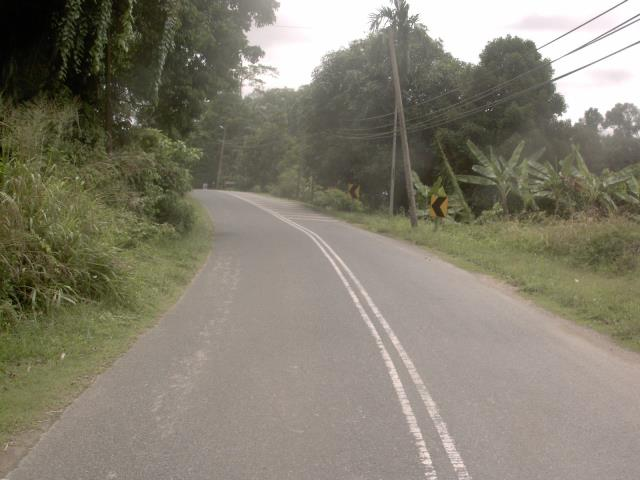traffic_sign: (423, 188, 453, 224)
